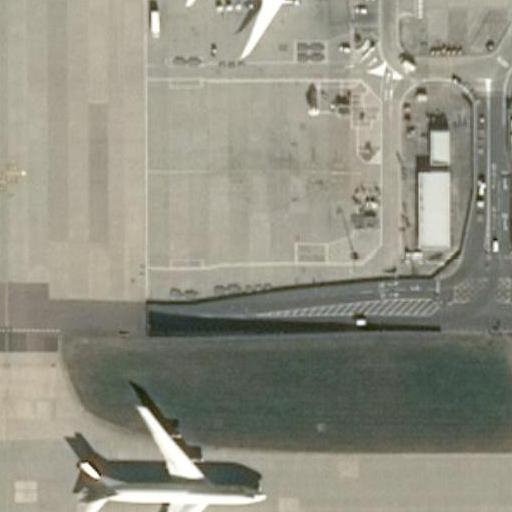Aircraft: (56, 391, 268, 512), (171, 0, 357, 57)
